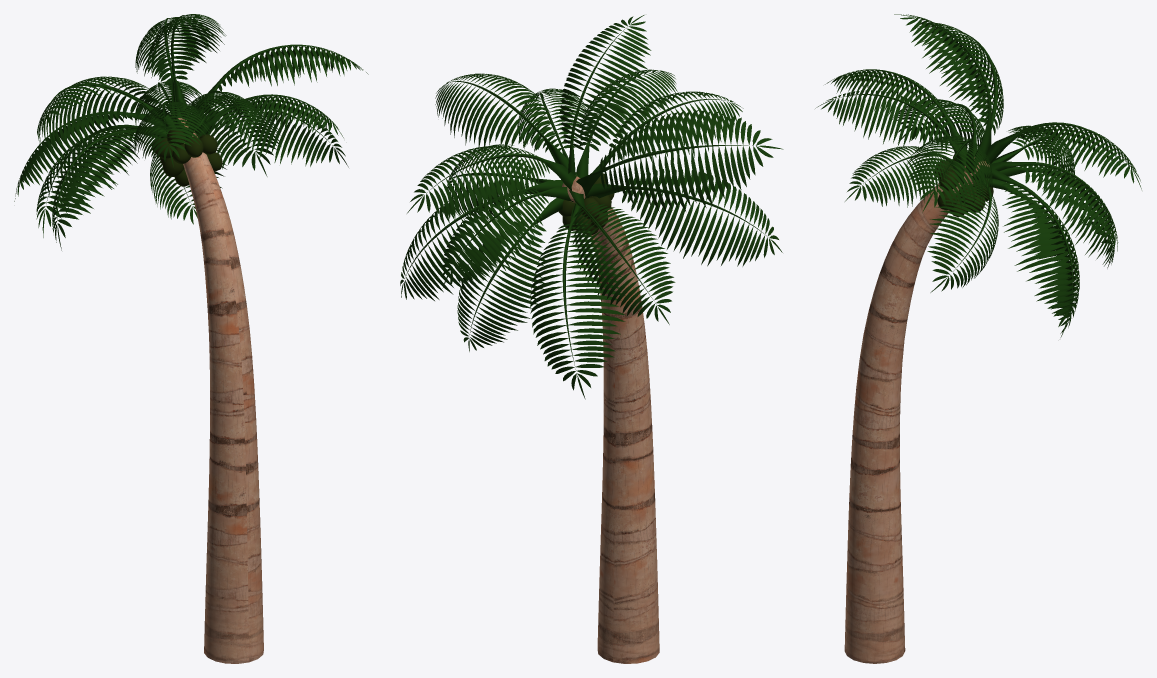
File: tree_2.obj
3 renders of one model, left to right at view 1: azimuth 30°, elevation 25°; view 2: azimuth 150°, elevation 25°; view 3: azimuth 270°, elevation 25°, orthographic. The views are drawn at different scales.
Visible parts, largest first — view 1: leaves32, trunk, pSphere16; view 2: leaves32, trunk, pSphere16; view 3: leaves32, trunk.
Boxes of the visible parts, x1,y1,x2,y2 form: leaves32: [14, 14, 368, 250]; trunk: [178, 118, 263, 663]; pSphere16: [151, 128, 190, 186]; leaves32: [400, 15, 783, 399]; trunk: [562, 176, 659, 663]; pSphere16: [558, 175, 614, 235]; leaves32: [815, 14, 1141, 337]; trunk: [844, 157, 989, 663].
Size of the model in its own units: 9.85 by 17.76 by 8.49.
Materials: 3 (2 with a texture image).
